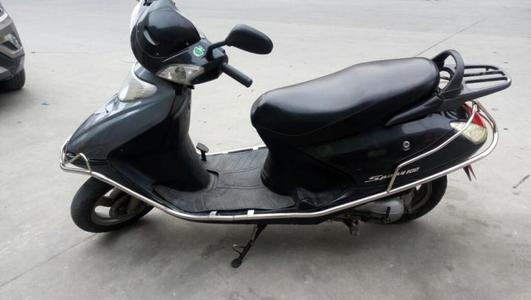motor: (59, 10, 492, 267)
